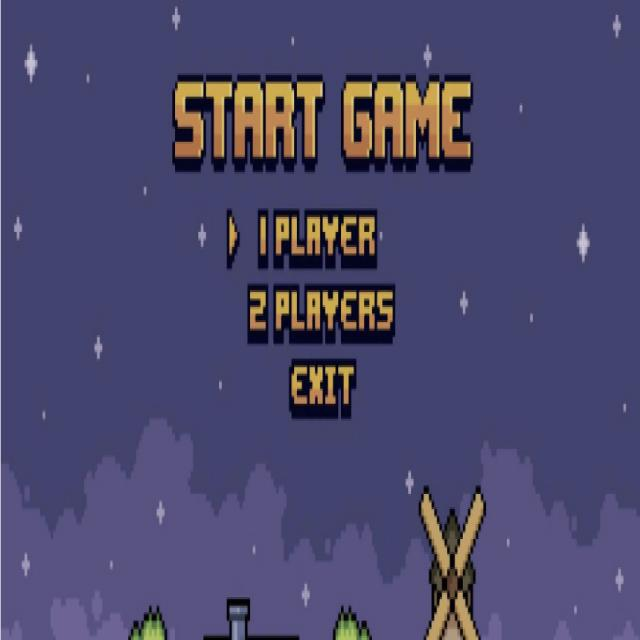Start-button: (163, 67, 483, 191)
